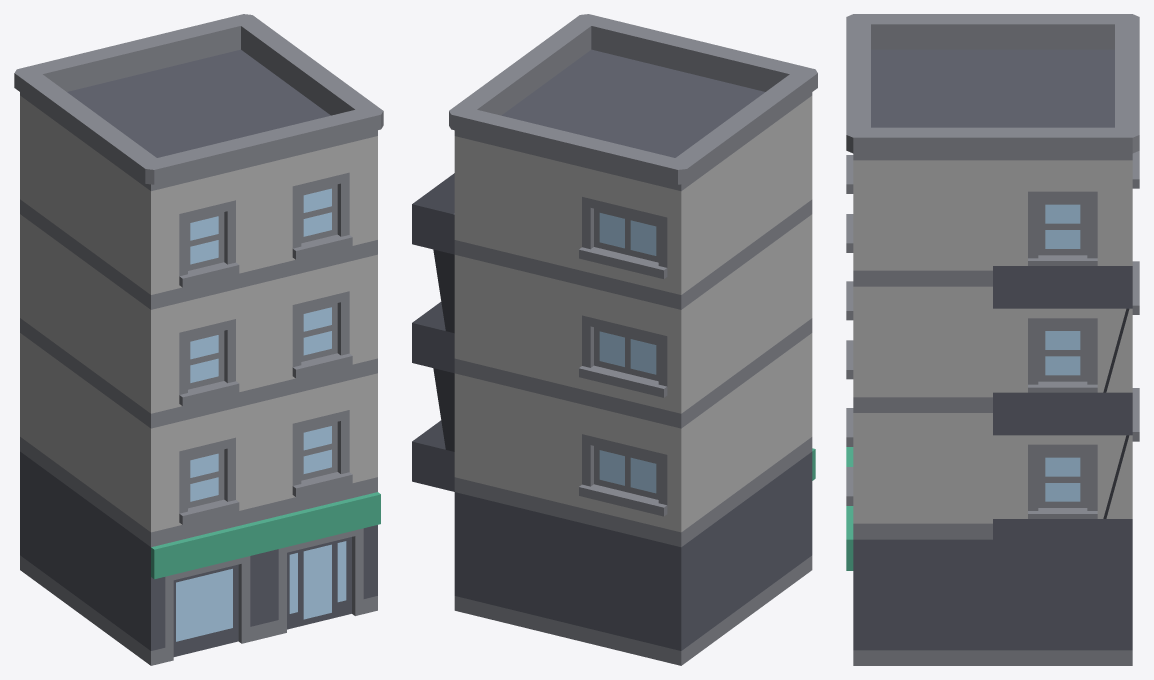
File: Large Building C.glb
The picture shows the model from 3 angles, left to right: view 1: azimuth 30°, elevation 25°; view 2: azimuth 150°, elevation 25°; view 3: azimuth 270°, elevation 25°; orthographic projection. The views are drawn at different scales.
Parts seen in each view (by area): view 1: large_buildingC; view 2: large_buildingC; view 3: large_buildingC.
Part boxes in pixels (<box>): large_buildingC: <box>14,14,383,665</box>; large_buildingC: <box>412,14,817,665</box>; large_buildingC: <box>846,14,1139,665</box>.
Bounding box in the file's own units: 0.97 × 1.68 × 0.84.
